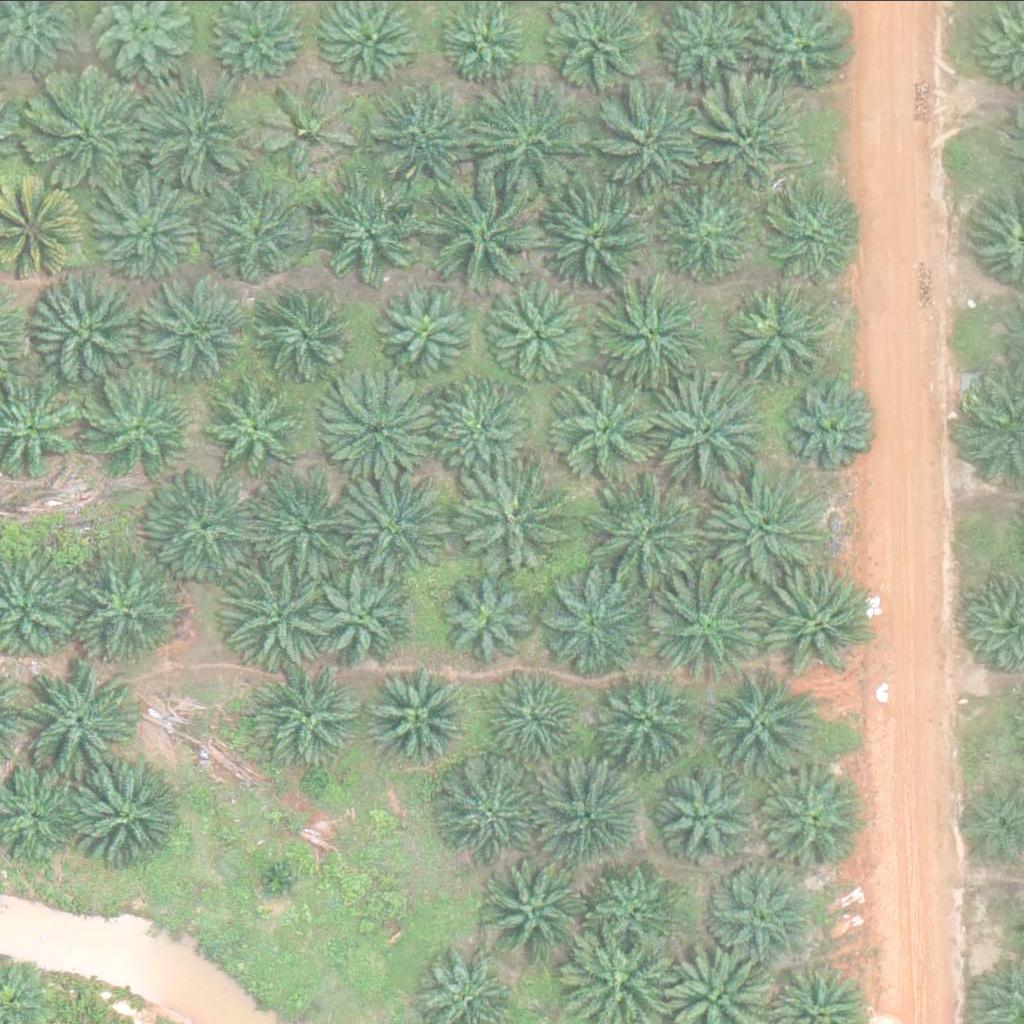Kelapa_Sawit: (536, 180, 650, 293), (320, 373, 434, 486), (336, 464, 450, 577), (713, 470, 827, 583), (653, 573, 767, 686), (754, 757, 868, 870), (706, 670, 820, 783), (590, 86, 703, 199), (361, 83, 474, 196), (141, 79, 254, 192), (29, 75, 142, 188), (430, 181, 543, 294), (36, 272, 149, 385), (594, 278, 707, 391), (555, 368, 668, 481), (454, 459, 567, 572), (75, 759, 188, 872), (533, 758, 646, 871), (475, 84, 589, 196), (83, 368, 197, 480), (537, 567, 651, 679), (695, 84, 808, 196), (309, 176, 422, 288), (731, 277, 844, 389), (652, 367, 765, 479), (158, 467, 271, 579), (587, 478, 700, 590), (764, 562, 877, 674), (66, 556, 179, 668), (214, 556, 327, 668), (23, 668, 136, 780), (477, 854, 590, 966), (95, 187, 196, 287), (207, 185, 308, 285), (660, 181, 761, 281), (769, 184, 870, 284), (152, 279, 253, 379), (492, 284, 593, 384), (207, 378, 308, 478), (442, 567, 543, 667), (312, 566, 413, 666), (663, 765, 764, 865), (707, 864, 808, 964), (257, 76, 357, 176), (266, 287, 366, 387), (439, 376, 539, 476), (255, 476, 355, 576), (263, 665, 363, 765), (372, 664, 472, 764), (488, 664, 588, 764), (604, 668, 704, 768), (448, 762, 548, 862), (386, 286, 475, 374), (591, 866, 679, 954), (793, 384, 881, 471), (250, 857, 301, 907)
